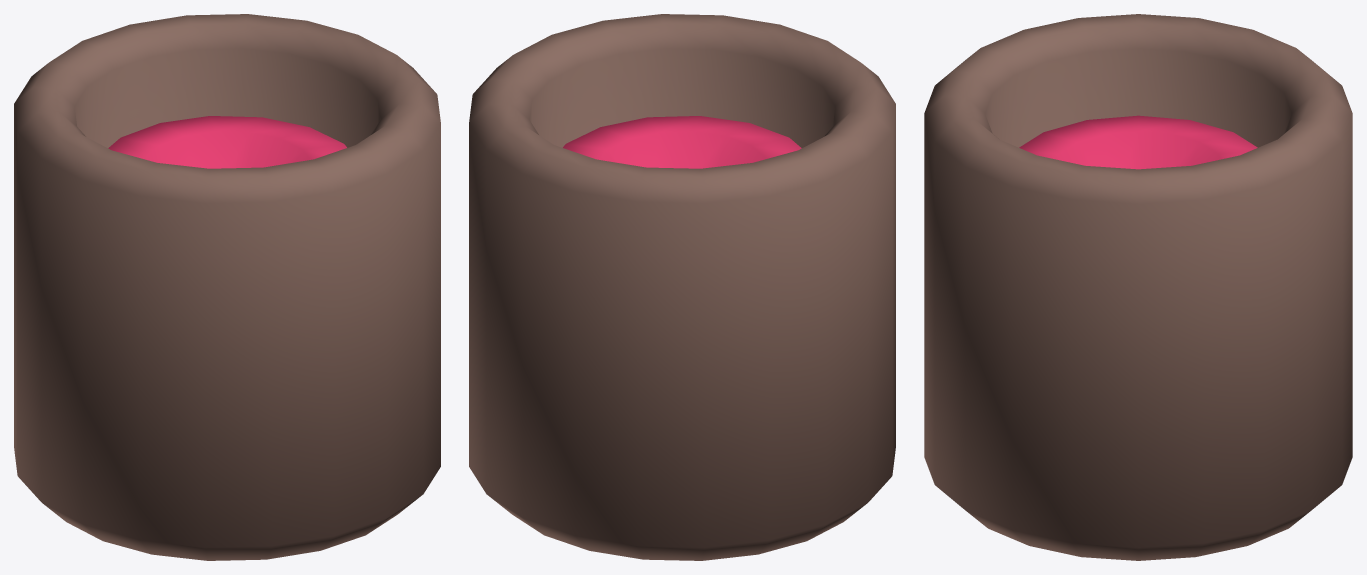
File: Candle_01.glb
The picture shows the model from 3 angles, left to right: view 1: azimuth 30°, elevation 25°; view 2: azimuth 150°, elevation 25°; view 3: azimuth 270°, elevation 25°; orthographic projection.
Parts seen in each view (by area): view 1: Candle_01; view 2: Candle_01; view 3: Candle_01.
Boxes of the visible parts, <box> form: Candle_01: <box>14,14,440,560</box>; Candle_01: <box>469,14,895,560</box>; Candle_01: <box>924,14,1352,560</box>.
Bounding box in the file's own units: 0.11 × 0.1093 × 0.11.
Materials: 2 (2 with a texture image).
